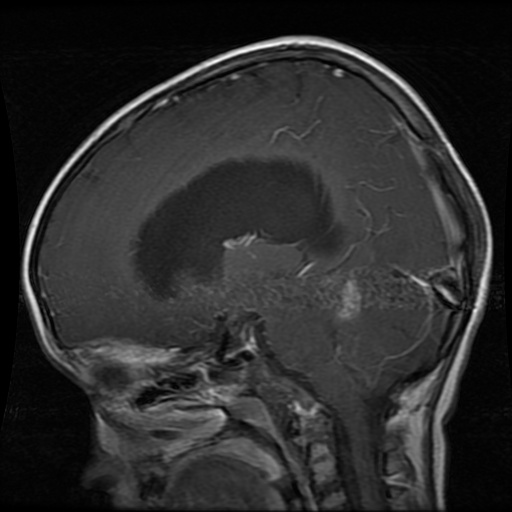glioma: (136, 153, 345, 297)
